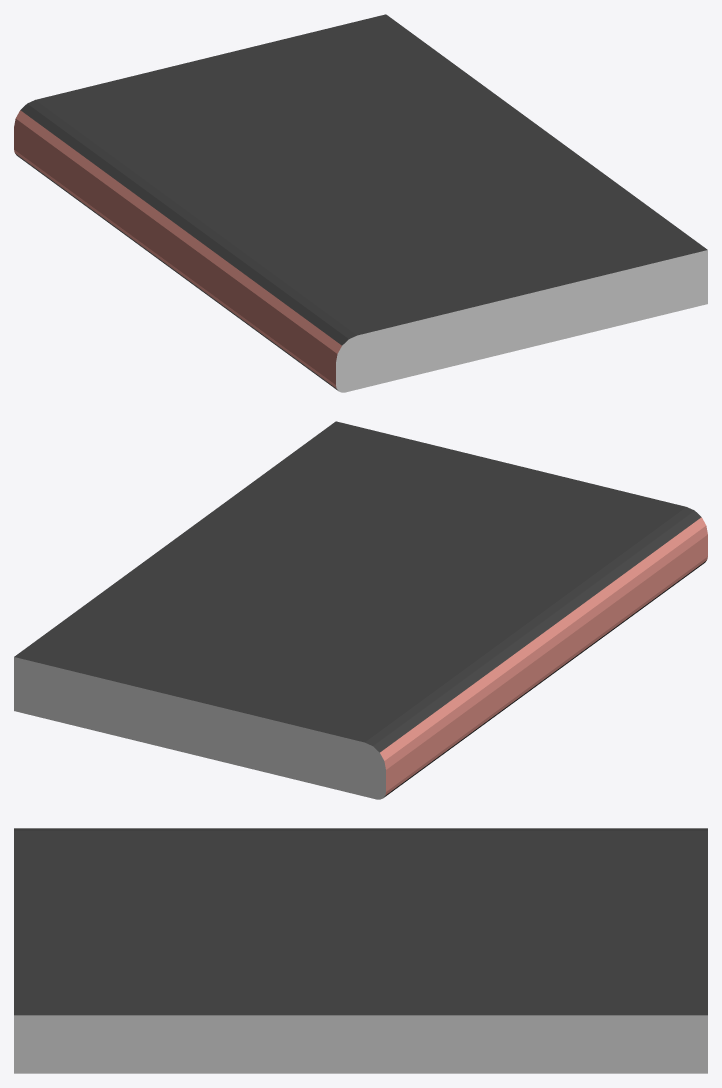
The model's file is Libro2.fbx.
3 renders of one model, top to bottom at view 1: azimuth 30°, elevation 25°; view 2: azimuth 150°, elevation 25°; view 3: azimuth 270°, elevation 25°, orthographic. The views are drawn at different scales.
Parts seen in each view (by area): view 1: Cube.080; view 2: Cube.080; view 3: Cube.080.
Boxes of the visible parts, left/top/right/bottom form: Cube.080: left=14, top=14, right=707, bottom=392; Cube.080: left=14, top=421, right=707, bottom=799; Cube.080: left=14, top=828, right=707, bottom=1073.
Bounding box in the file's own units: 58.68 × 8.15 × 87.93.
